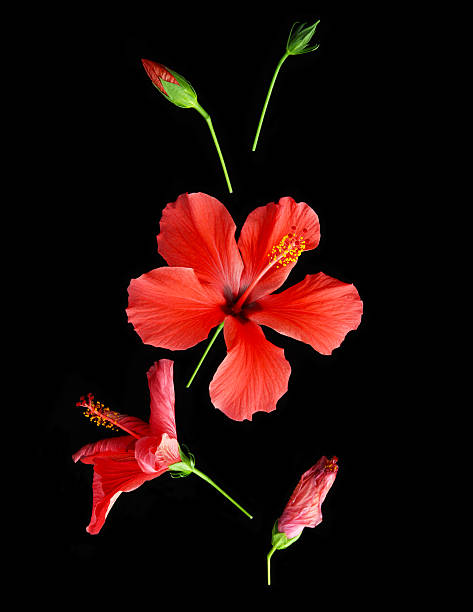Hibiscus: (119, 185, 369, 415), (55, 358, 264, 539), (257, 451, 353, 590), (137, 51, 221, 137), (276, 17, 335, 89)
